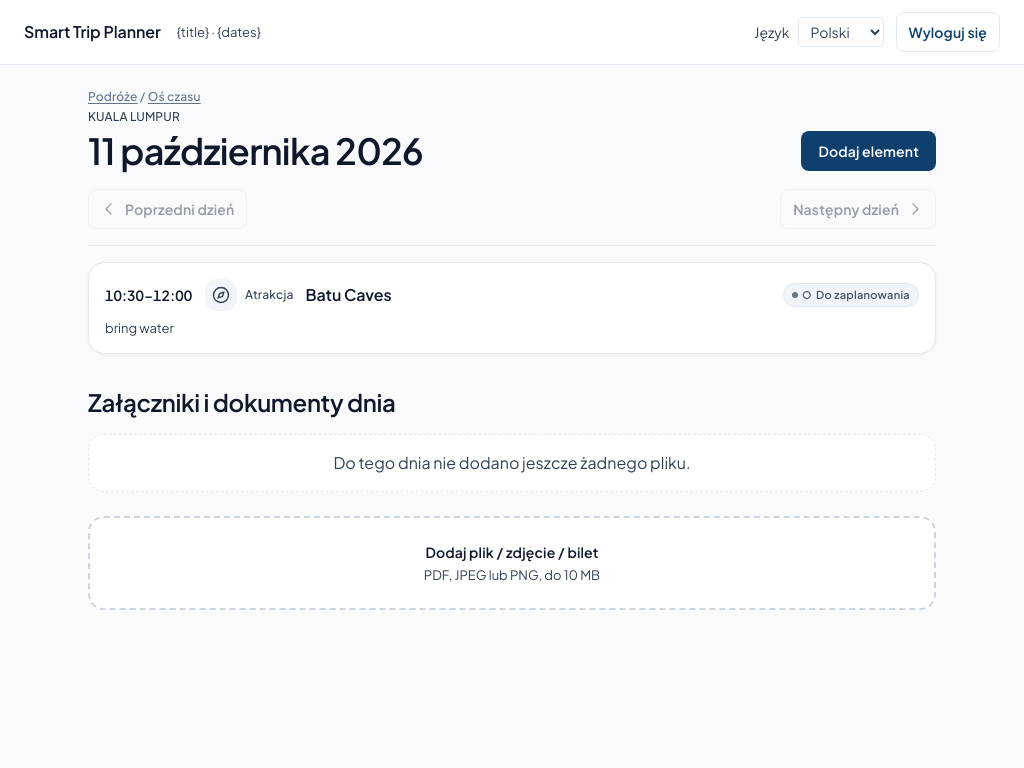
the reservation panel wired into the real item editor › renders the panel collapsed the moment the editor opens
The width and height of the screenshot is (1024, 768).
Check: the text "Batu Caves" is shown, box [306,284,392,305]
Click the button "Batu Caves" at (149, 295), box [88,262,936,354]
(page scrolled)
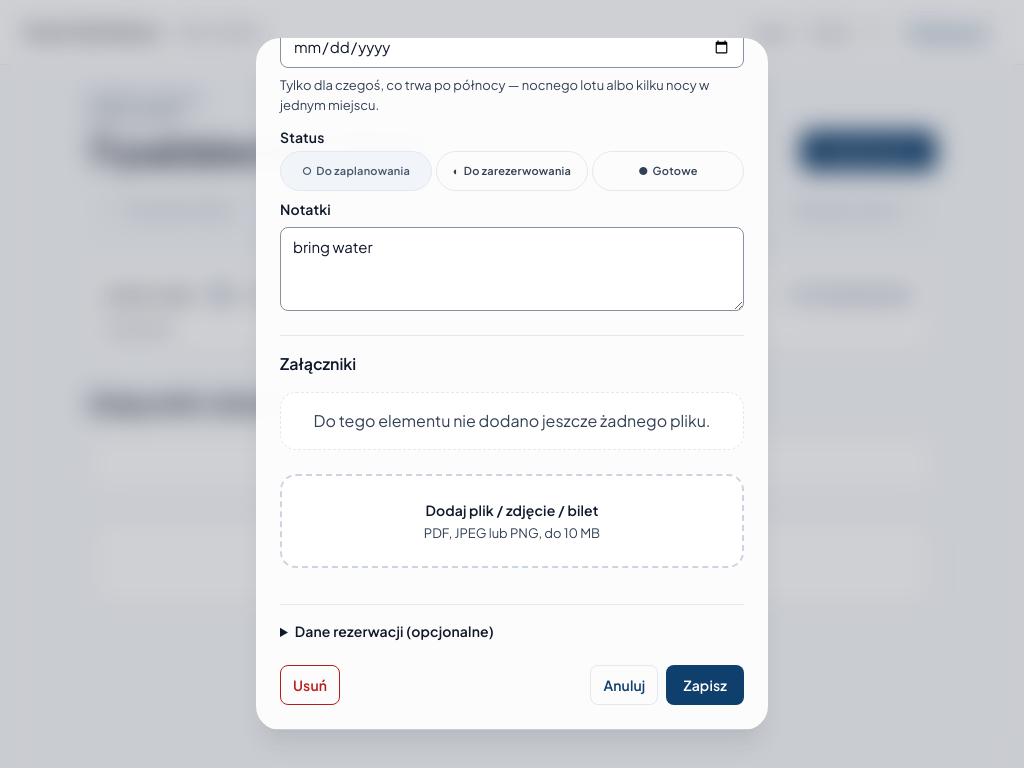
Check: the element with class "reservation-panel" is shown, box [280,604,744,641]
